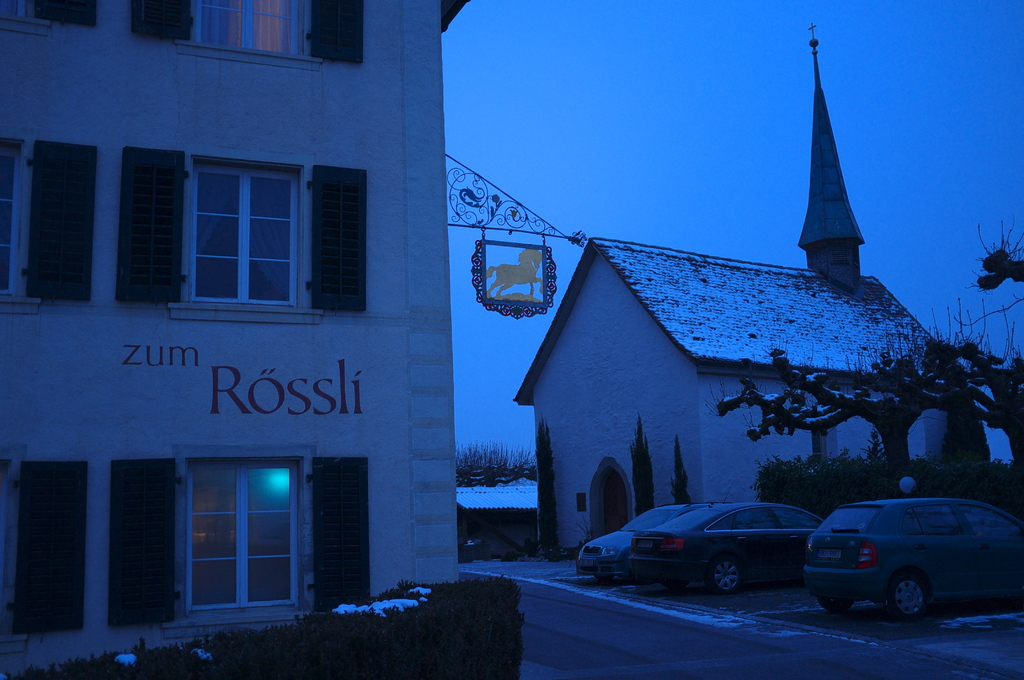Car: (801, 496, 1006, 631), (618, 494, 823, 590), (576, 501, 730, 583)
